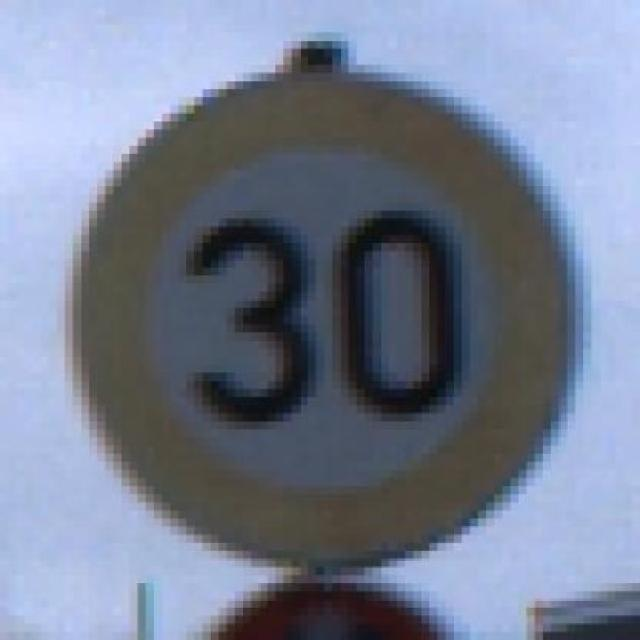Speed Limit 30 KMPh: (49, 48, 608, 575)
